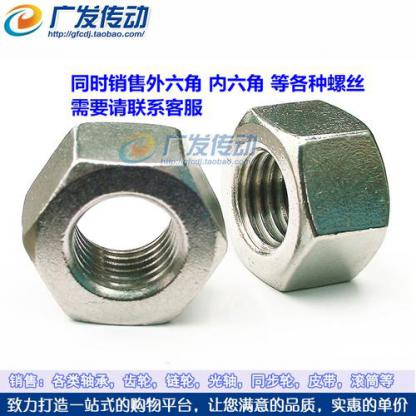FOD: (20, 116, 226, 330), (223, 98, 392, 298)
